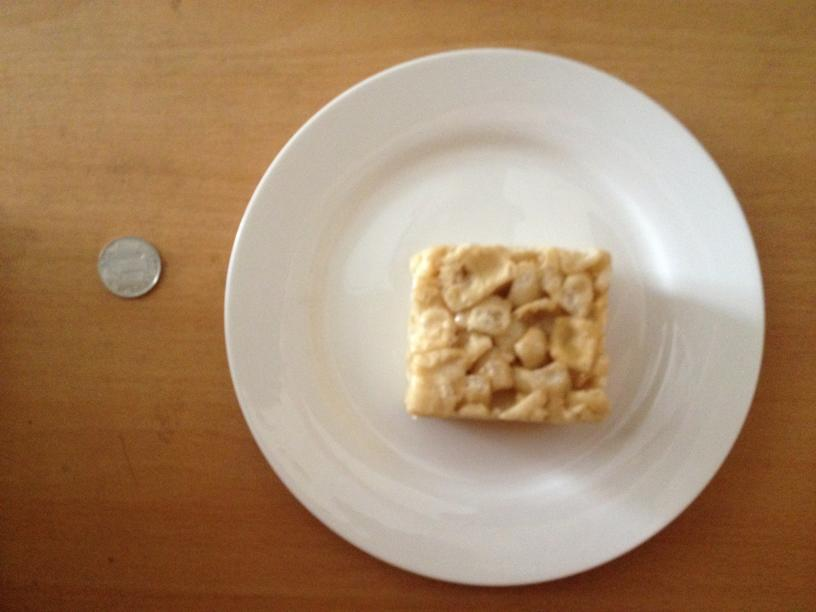coin: (98, 236, 161, 297)
sachima: (402, 243, 609, 428)
